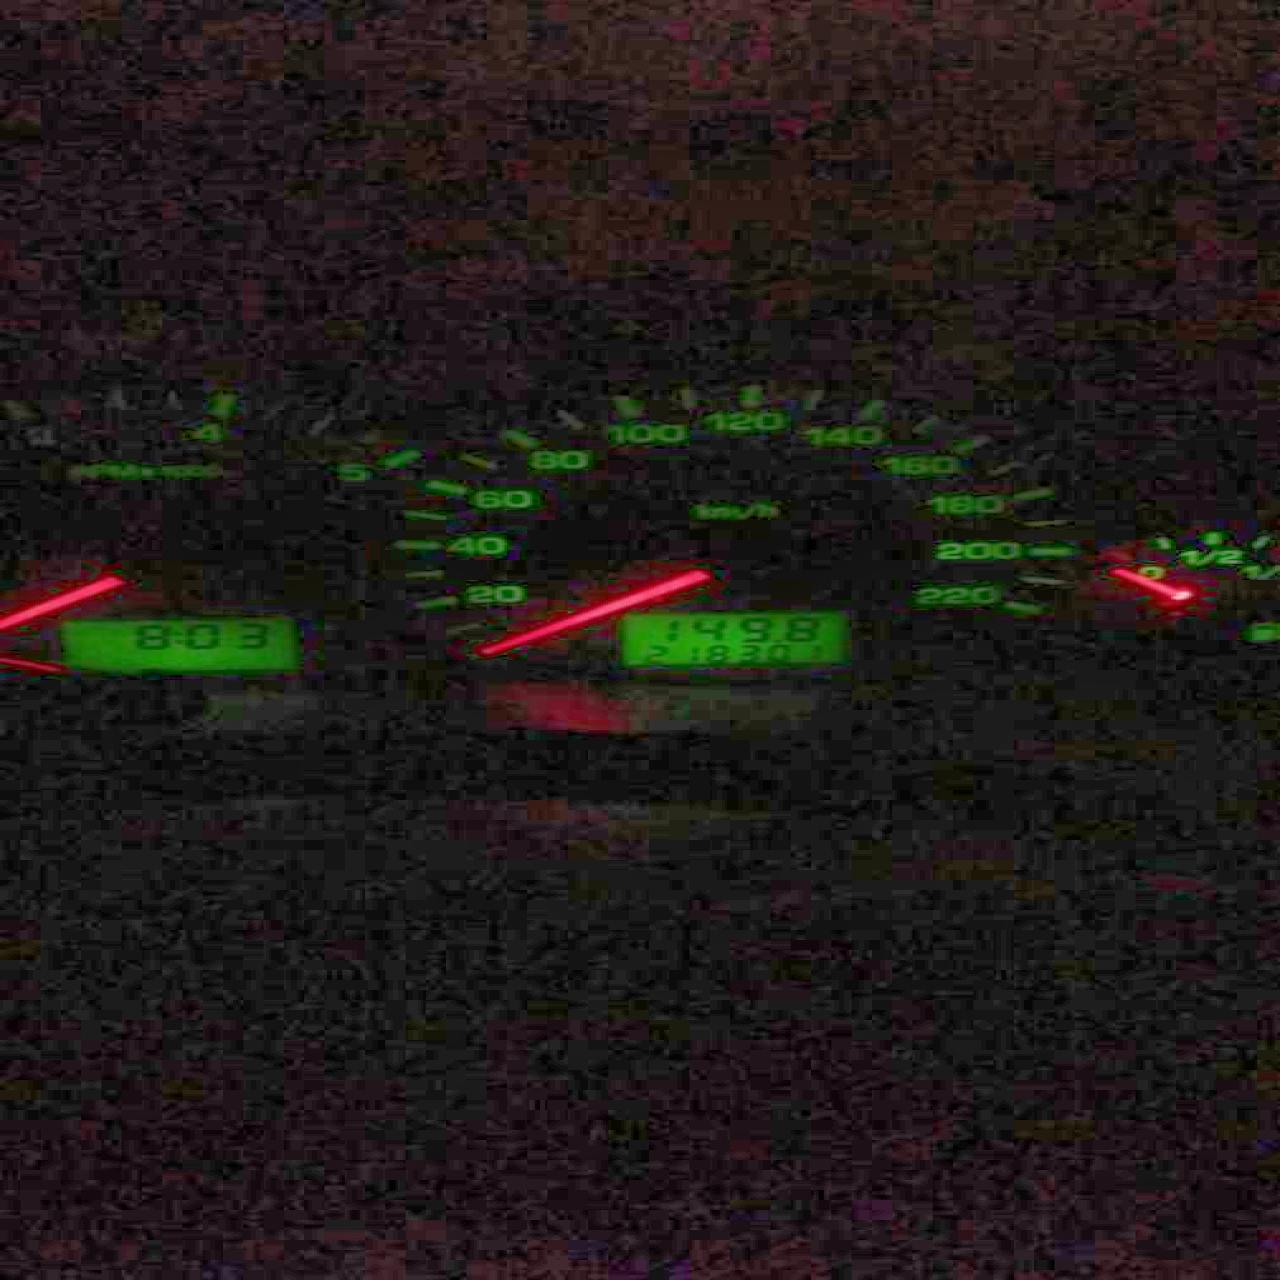-: (771, 636, 783, 644)
0: (765, 644, 791, 662)
1: (661, 617, 682, 641), (687, 644, 702, 662), (806, 642, 821, 660)
2: (641, 642, 669, 662)
3: (735, 642, 761, 662)
4: (689, 617, 724, 640)
8: (783, 617, 818, 640), (704, 642, 730, 662)
9: (737, 615, 768, 642)
odometer: (624, 612, 846, 667)
